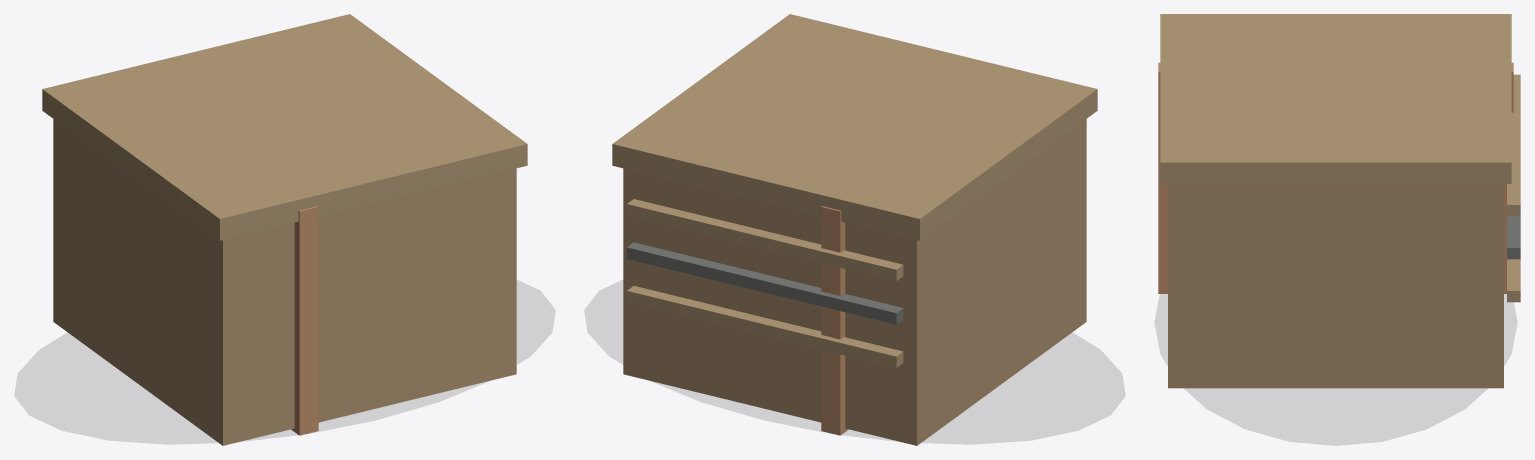
The model's file is crate.glb.
3 views of the same model, side by side, from view 1: azimuth 30°, elevation 25°; view 2: azimuth 150°, elevation 25°; view 3: azimuth 270°, elevation 25° (orthographic).
Visible parts, largest first — view 1: crate_body, crate_lid, baked_contact_shadow, rust_band; view 2: crate_body, crate_lid, baked_contact_shadow, front_plank_0, front_plank_1, front_plank_2, rust_band; view 3: crate_body, crate_lid, baked_contact_shadow, rust_band, front_plank_0, front_plank_1, front_plank_2.
Part boxes in pixels (x1=…): crate_body: x1=53, y1=119, x2=516, y2=445; crate_lid: x1=42, y1=14, x2=527, y2=240; baked_contact_shadow: x1=15, y1=280, x2=554, y2=443; rust_band: x1=291, y1=206, x2=318, y2=435; crate_body: x1=623, y1=119, x2=1086, y2=445; crate_lid: x1=612, y1=14, x2=1097, y2=240; baked_contact_shadow: x1=585, y1=280, x2=1124, y2=443; front_plank_0: x1=627, y1=199, x2=903, y2=281; front_plank_1: x1=627, y1=242, x2=903, y2=324; front_plank_2: x1=627, y1=286, x2=903, y2=367; rust_band: x1=821, y1=206, x2=848, y2=435; crate_body: x1=1168, y1=184, x2=1503, y2=388; crate_lid: x1=1160, y1=14, x2=1511, y2=183; baked_contact_shadow: x1=1155, y1=294, x2=1516, y2=445; rust_band: x1=1158, y1=62, x2=1513, y2=293; front_plank_0: x1=1507, y1=74, x2=1520, y2=216; front_plank_1: x1=1507, y1=216, x2=1520, y2=259; front_plank_2: x1=1507, y1=259, x2=1520, y2=302.
Size of the model in its own units: 1.48 by 0.654 by 0.9275.
